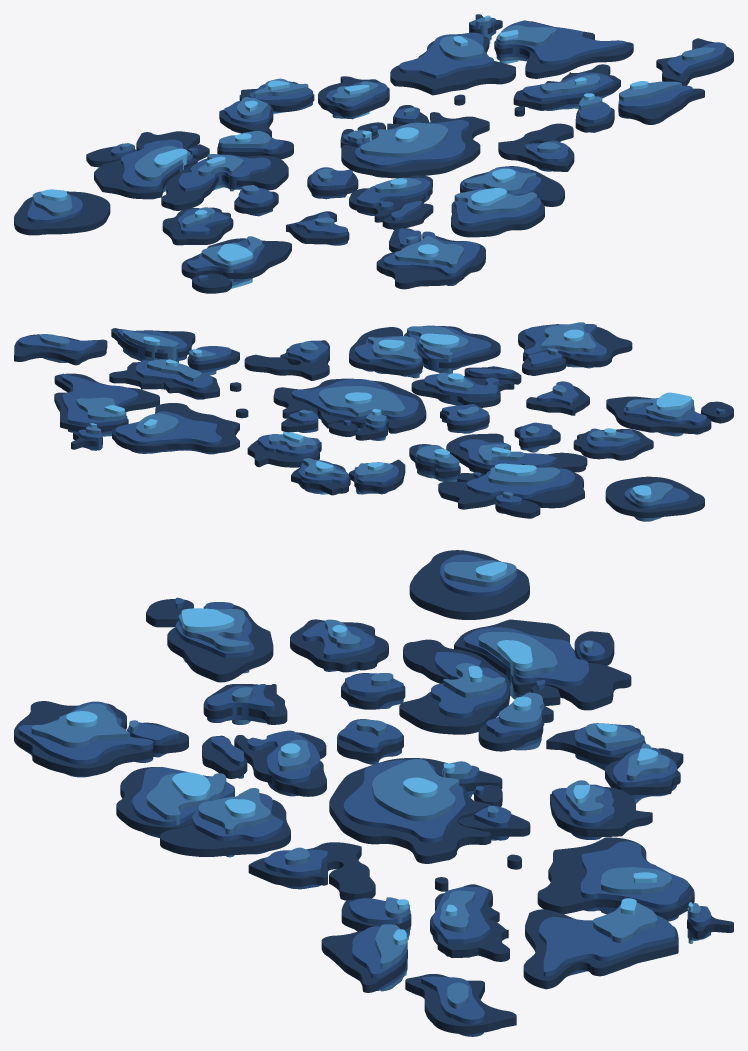
File: Map_Figma.glb
3 views of the same model, one above another, from view 1: azimuth 30°, elevation 25°; view 2: azimuth 150°, elevation 25°; view 3: azimuth 270°, elevation 25° (orthographic). The views are drawn at different scales.
Parts seen in each view (by area): view 1: Curve.720, Curve.729, Curve.730, Curve.731; view 2: Curve.720, Curve.729, Curve.730, Curve.731; view 3: Curve.720, Curve.729, Curve.730, Curve.731.
Boxes of the visible parts, x1,y1,x2,y2 form: Curve.720: [14, 14, 733, 293]; Curve.729: [27, 17, 726, 285]; Curve.730: [32, 17, 715, 285]; Curve.731: [41, 15, 648, 288]; Curve.720: [14, 324, 733, 518]; Curve.729: [18, 324, 725, 513]; Curve.730: [39, 322, 693, 521]; Curve.731: [90, 329, 691, 520]; Curve.720: [14, 550, 733, 1034]; Curve.729: [18, 554, 710, 1036]; Curve.730: [31, 560, 700, 1008]; Curve.731: [66, 562, 693, 976].
Size of what is drawn, in the model's own units: 21.47 by 0.7816 by 13.72.
